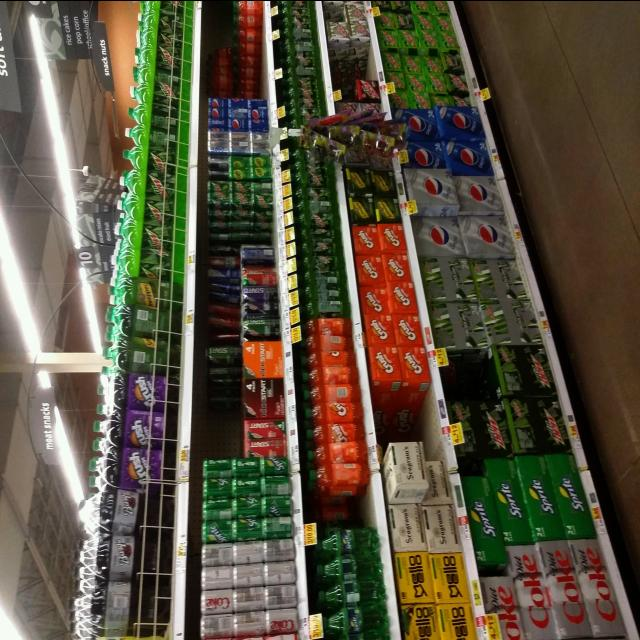empty_space: (204, 415, 242, 455), (346, 65, 380, 79)
